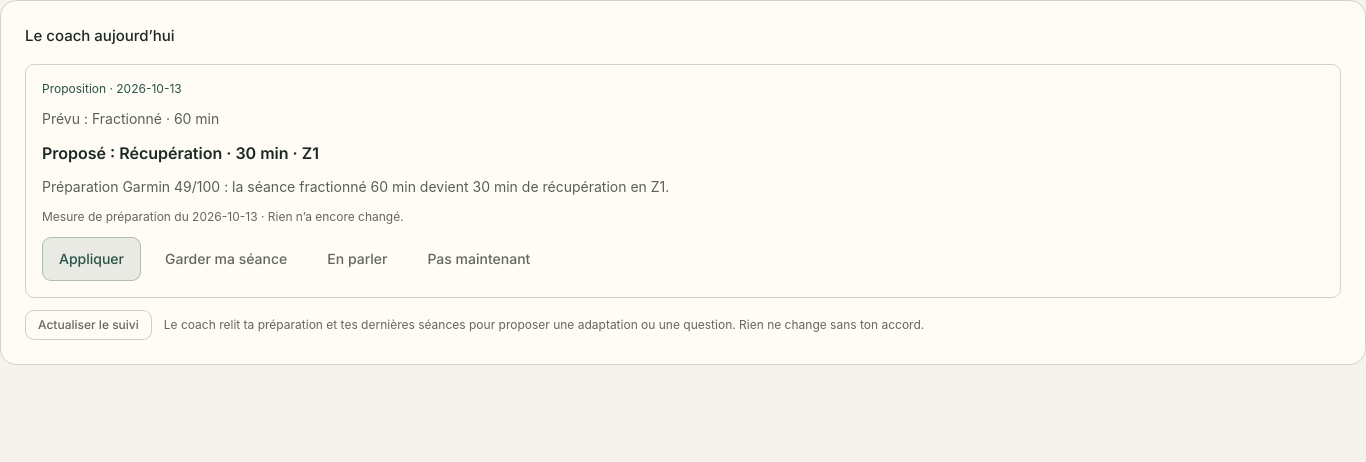
Scenario: checks an uncertain answer with a read of its own while the card waits for the dashboard
Click the button "Appliquer" at (92, 258), box 42,236 -> 141,280
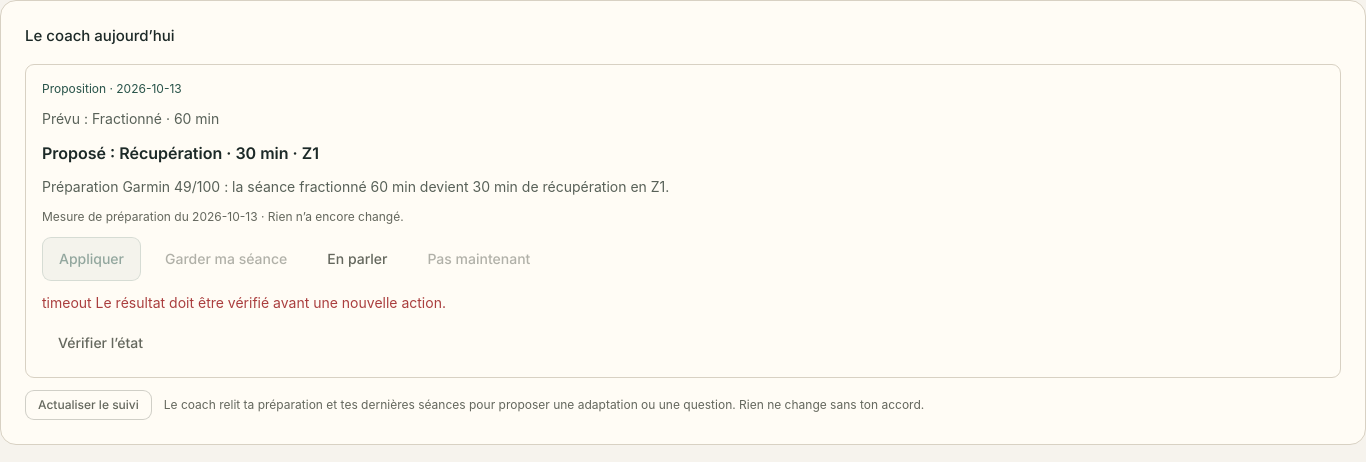
Click the button "Vérifier l’état" at (101, 342), box 42,324 -> 159,360
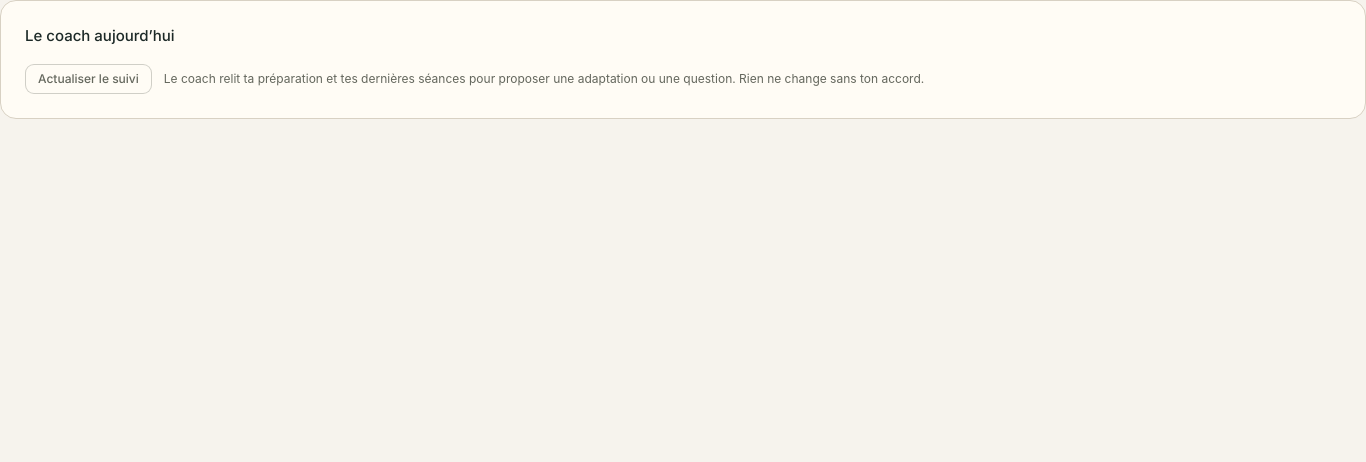
Expected: the button "Vérifier l’état" is gone
